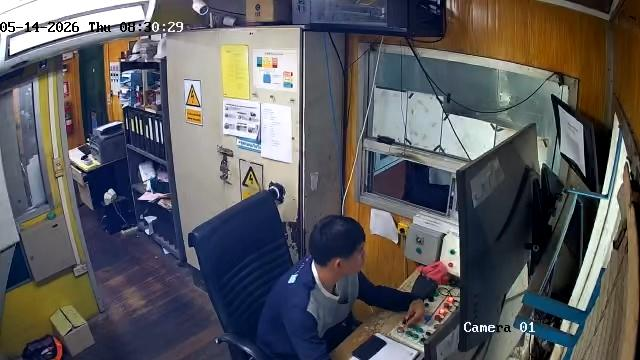Head: (306, 214, 369, 275)
People: (254, 215, 424, 360)
Phone: (349, 333, 388, 359)
